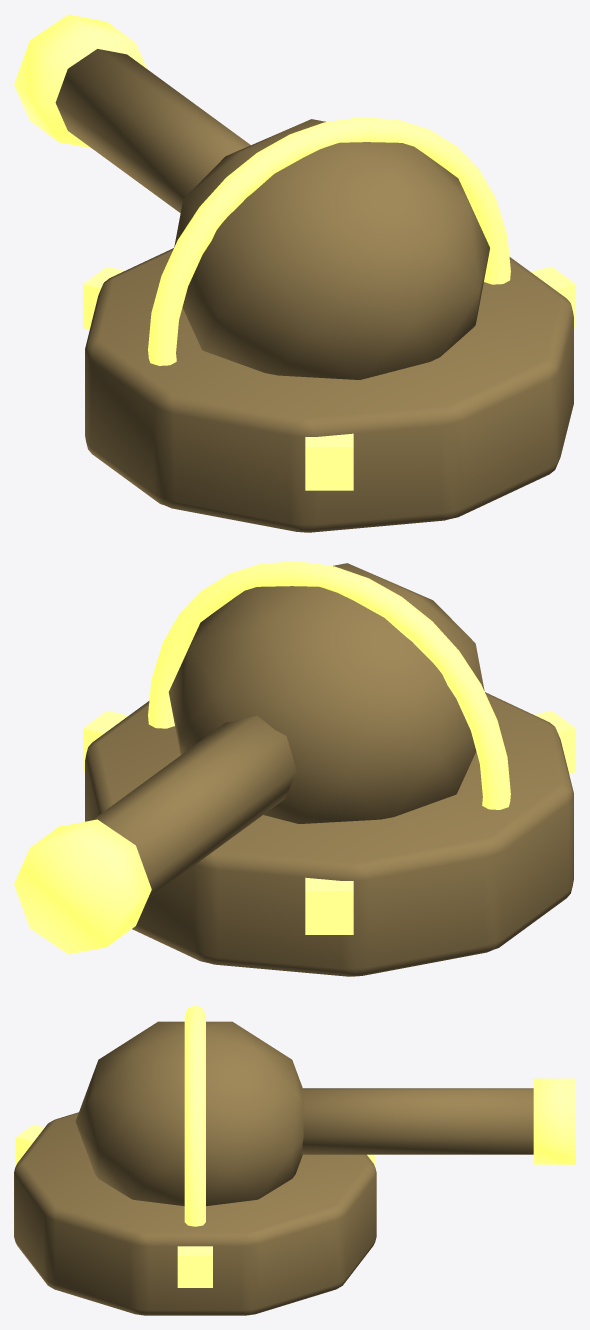
The model's file is shooter.glb.
3 renders of one model, top to bottom at view 1: azimuth 30°, elevation 25°; view 2: azimuth 150°, elevation 25°; view 3: azimuth 270°, elevation 25°, orthographic. The views are drawn at different scales.
Parts seen in each view (by area): view 1: base, dome, barrel, ring, muzzle, vent.002, vent.001, vent; view 2: base, dome, barrel, ring, muzzle, vent.001, vent.002, vent; view 3: base, dome, barrel, ring, muzzle, vent, vent.002.
Part boxes in pixels (x1=…): base: x1=85, y1=248, x2=573, y2=532; dome: x1=174, y1=119, x2=489, y2=379; barrel: x1=55, y1=49, x2=250, y2=212; ring: x1=148, y1=117, x2=510, y2=365; muzzle: x1=14, y1=14, x2=146, y2=148; vent.002: x1=305, y1=433, x2=353, y2=490; vent.001: x1=83, y1=266, x2=124, y2=329; vent: x1=530, y1=266, x2=575, y2=328; base: x1=85, y1=692, x2=573, y2=976; dome: x1=168, y1=563, x2=484, y2=823; barrel: x1=92, y1=715, x2=296, y2=898; ring: x1=148, y1=561, x2=510, y2=809; muzzle: x1=14, y1=819, x2=151, y2=954; vent.001: x1=305, y1=877, x2=353, y2=934; vent.002: x1=534, y1=710, x2=575, y2=773; vent: x1=83, y1=710, x2=128, y2=772; base: x1=14, y1=1112, x2=376, y2=1315; dome: x1=75, y1=1021, x2=304, y2=1206; barrel: x1=301, y1=1088, x2=533, y2=1154; ring: x1=184, y1=1005, x2=205, y2=1226; muzzle: x1=533, y1=1078, x2=575, y2=1164; vent: x1=177, y1=1246, x2=212, y2=1287; vent.002: x1=15, y1=1124, x2=44, y2=1165.
Bounding box in the file's own units: 1.05 × 0.86 × 1.59.
